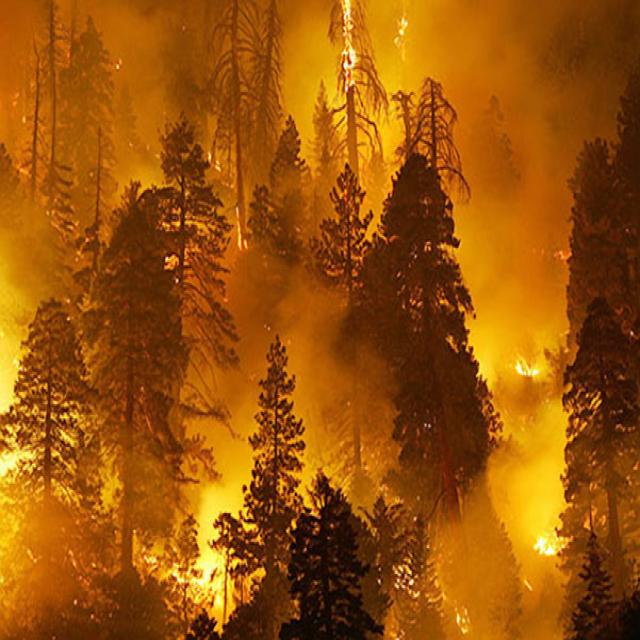Fire: (329, 8, 363, 108), (180, 543, 217, 603), (504, 361, 546, 402), (523, 524, 555, 568)
Smoke: (124, 204, 342, 457), (0, 0, 118, 205), (440, 151, 552, 362)
